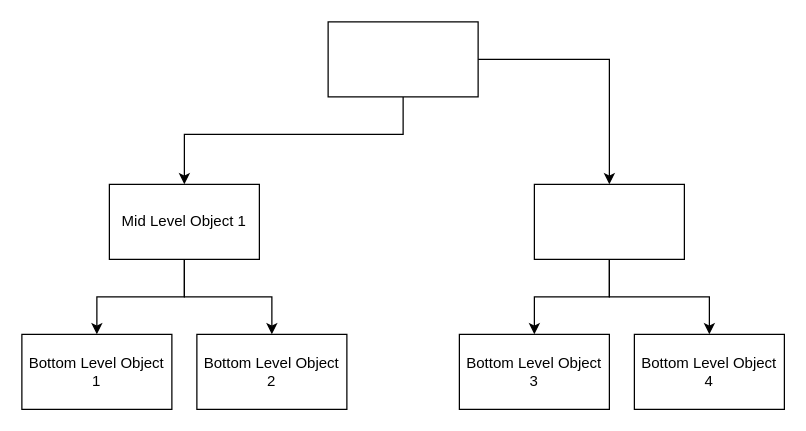
Image size: 806x431. Some labels were removed from this diagram. The shapes that lost their labels are listed below. From the top down, each one's centre as x and y in pixels, then its label:
At (x=402, y=59): "Top Level Object".
At (x=608, y=221): "Mid Level Object 2".
